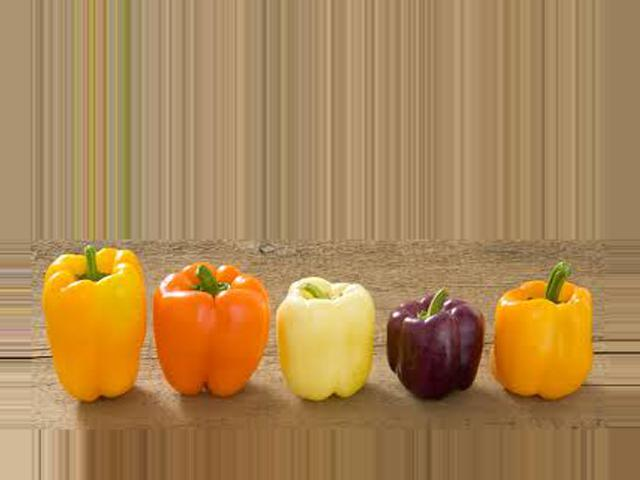bell_pepper: (501, 256, 602, 422)
